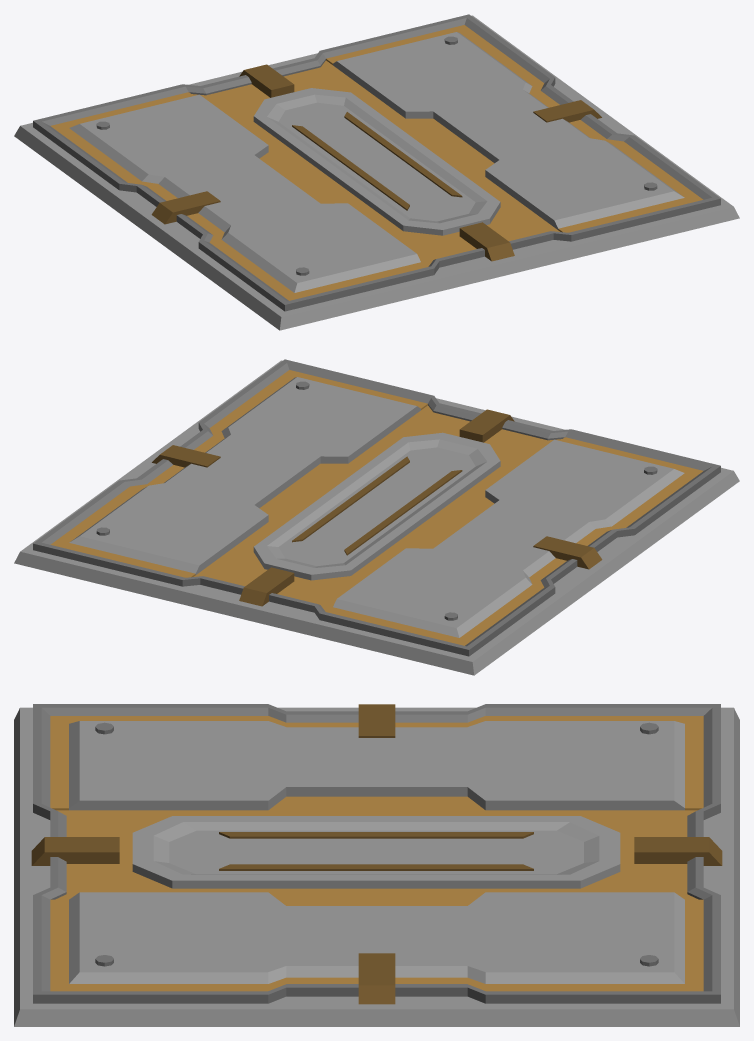
File: FloorTile_Basic2.glb
3 renders of one model, top to bottom at view 1: azimuth 30°, elevation 25°; view 2: azimuth 150°, elevation 25°; view 3: azimuth 270°, elevation 25°, orthographic. The views are drawn at different scales.
Visible parts, largest first — view 1: FloorTile_Basic2; view 2: FloorTile_Basic2; view 3: FloorTile_Basic2.
Part boxes in pixels (x1,y1,x2,y2): FloorTile_Basic2: (14,14,739,330); FloorTile_Basic2: (14,359,739,675); FloorTile_Basic2: (14,704,739,1026).
Bounding box in the file's own units: 2 × 0.0934 × 2.
